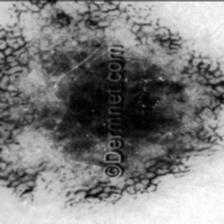Potentially Malignant Skin Tumors: (0, 0, 101, 208), (123, 1, 224, 198)
